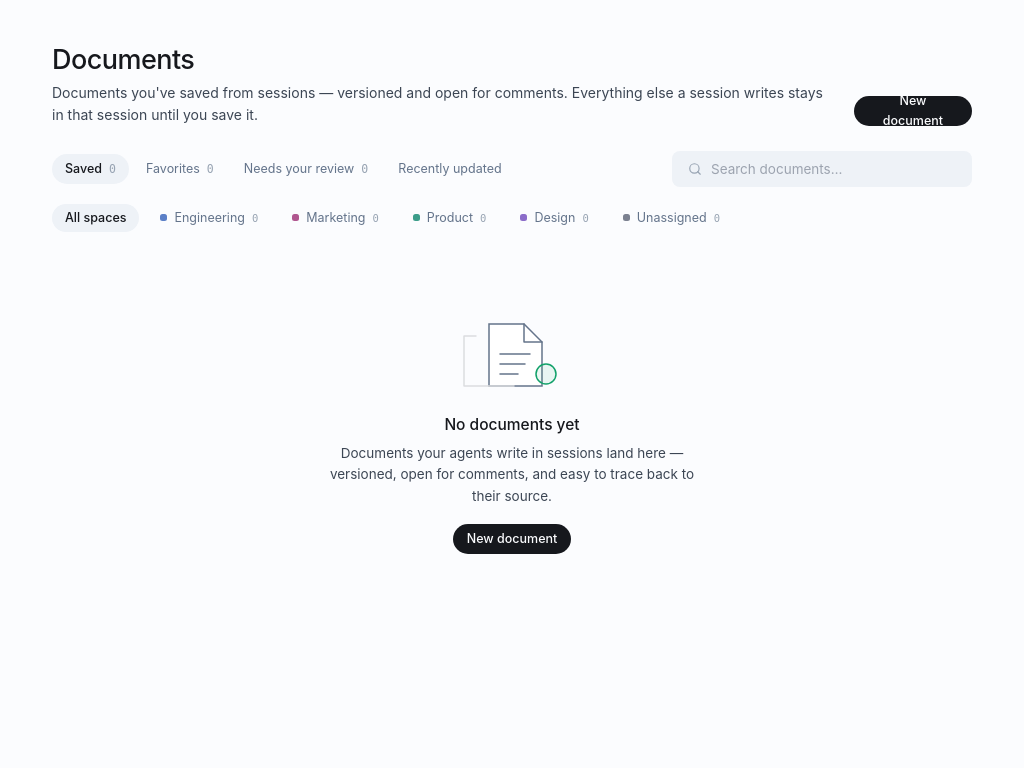
it: DocumentsPage › opens the prototype-matched new-document form
Expected: the heading "No documents yet" is shown, [444,413,580,437]
Click the 1st button "New document" at (913, 111), box [854,96,972,126]
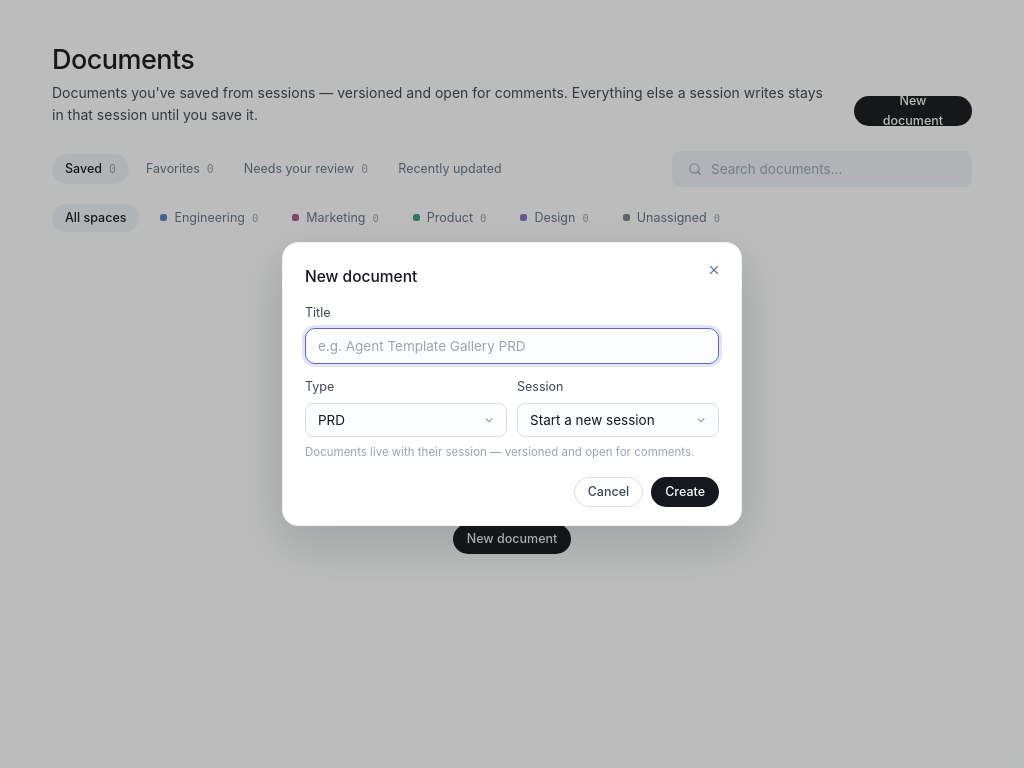
Expected: the dialog "New document" is shown, [282,242,742,526]
Expected: the field labelled "Title" is shown, [305,328,719,364]
